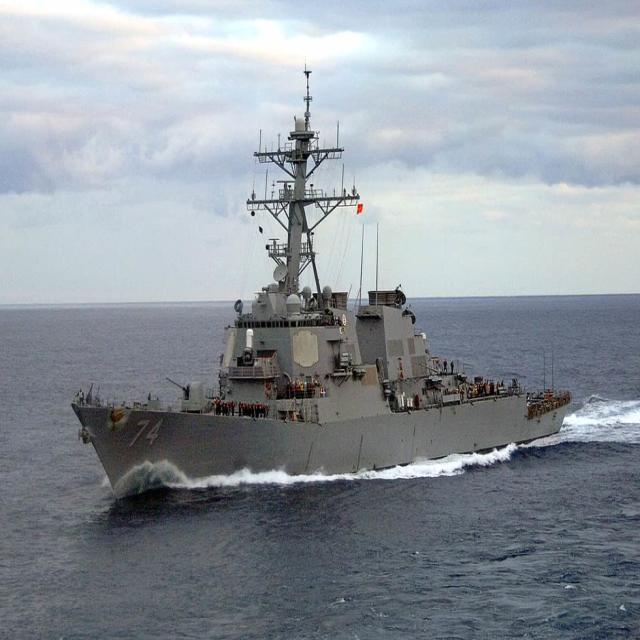navalvessels: (66, 98, 578, 527)
